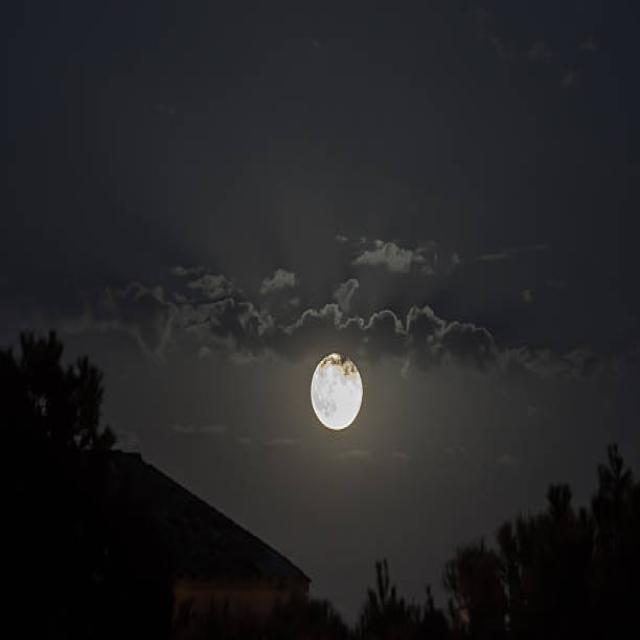moon: (310, 345, 366, 427)
